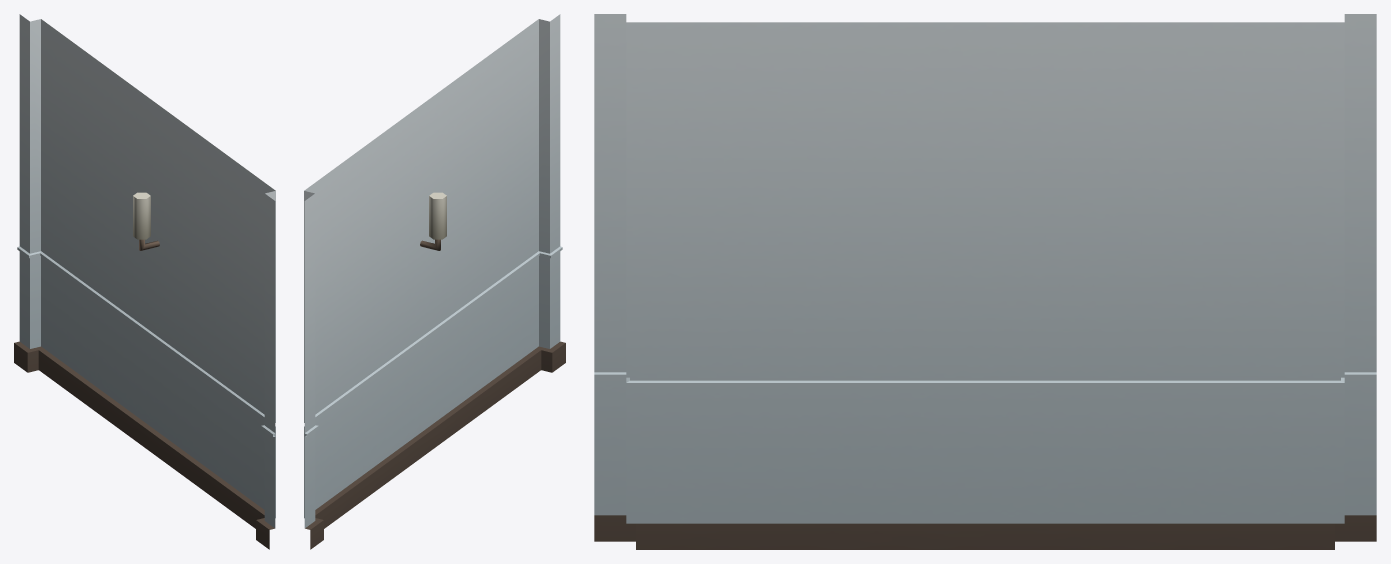
Rendered from 4m_custom_trim_lamp.fbx.
3 renders of one model, left to right at view 1: azimuth 30°, elevation 25°; view 2: azimuth 150°, elevation 25°; view 3: azimuth 270°, elevation 25°, orthographic. The views are drawn at different scales.
Parts seen in each view (by area): view 1: 4m_custom_trim_lamp; view 2: 4m_custom_trim_lamp; view 3: 4m_custom_trim_lamp.
Part boxes in pixels (left/top/right/bottom): 4m_custom_trim_lamp: left=14, top=14, right=275, bottom=549; 4m_custom_trim_lamp: left=304, top=14, right=565, bottom=549; 4m_custom_trim_lamp: left=594, top=14, right=1376, bottom=549.
Bounding box in the file's own units: 21.06 × 300 × 400.
